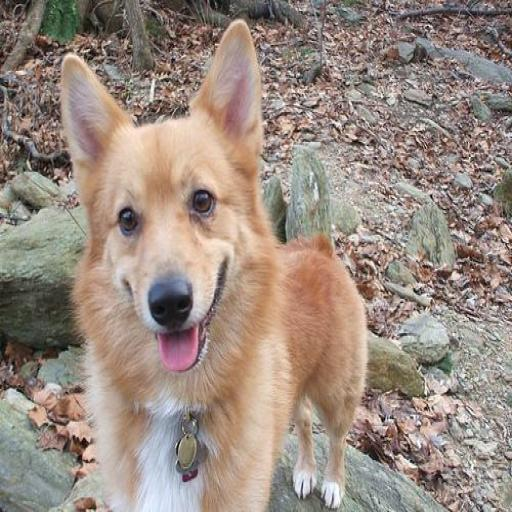dog_face: (54, 23, 255, 366)
